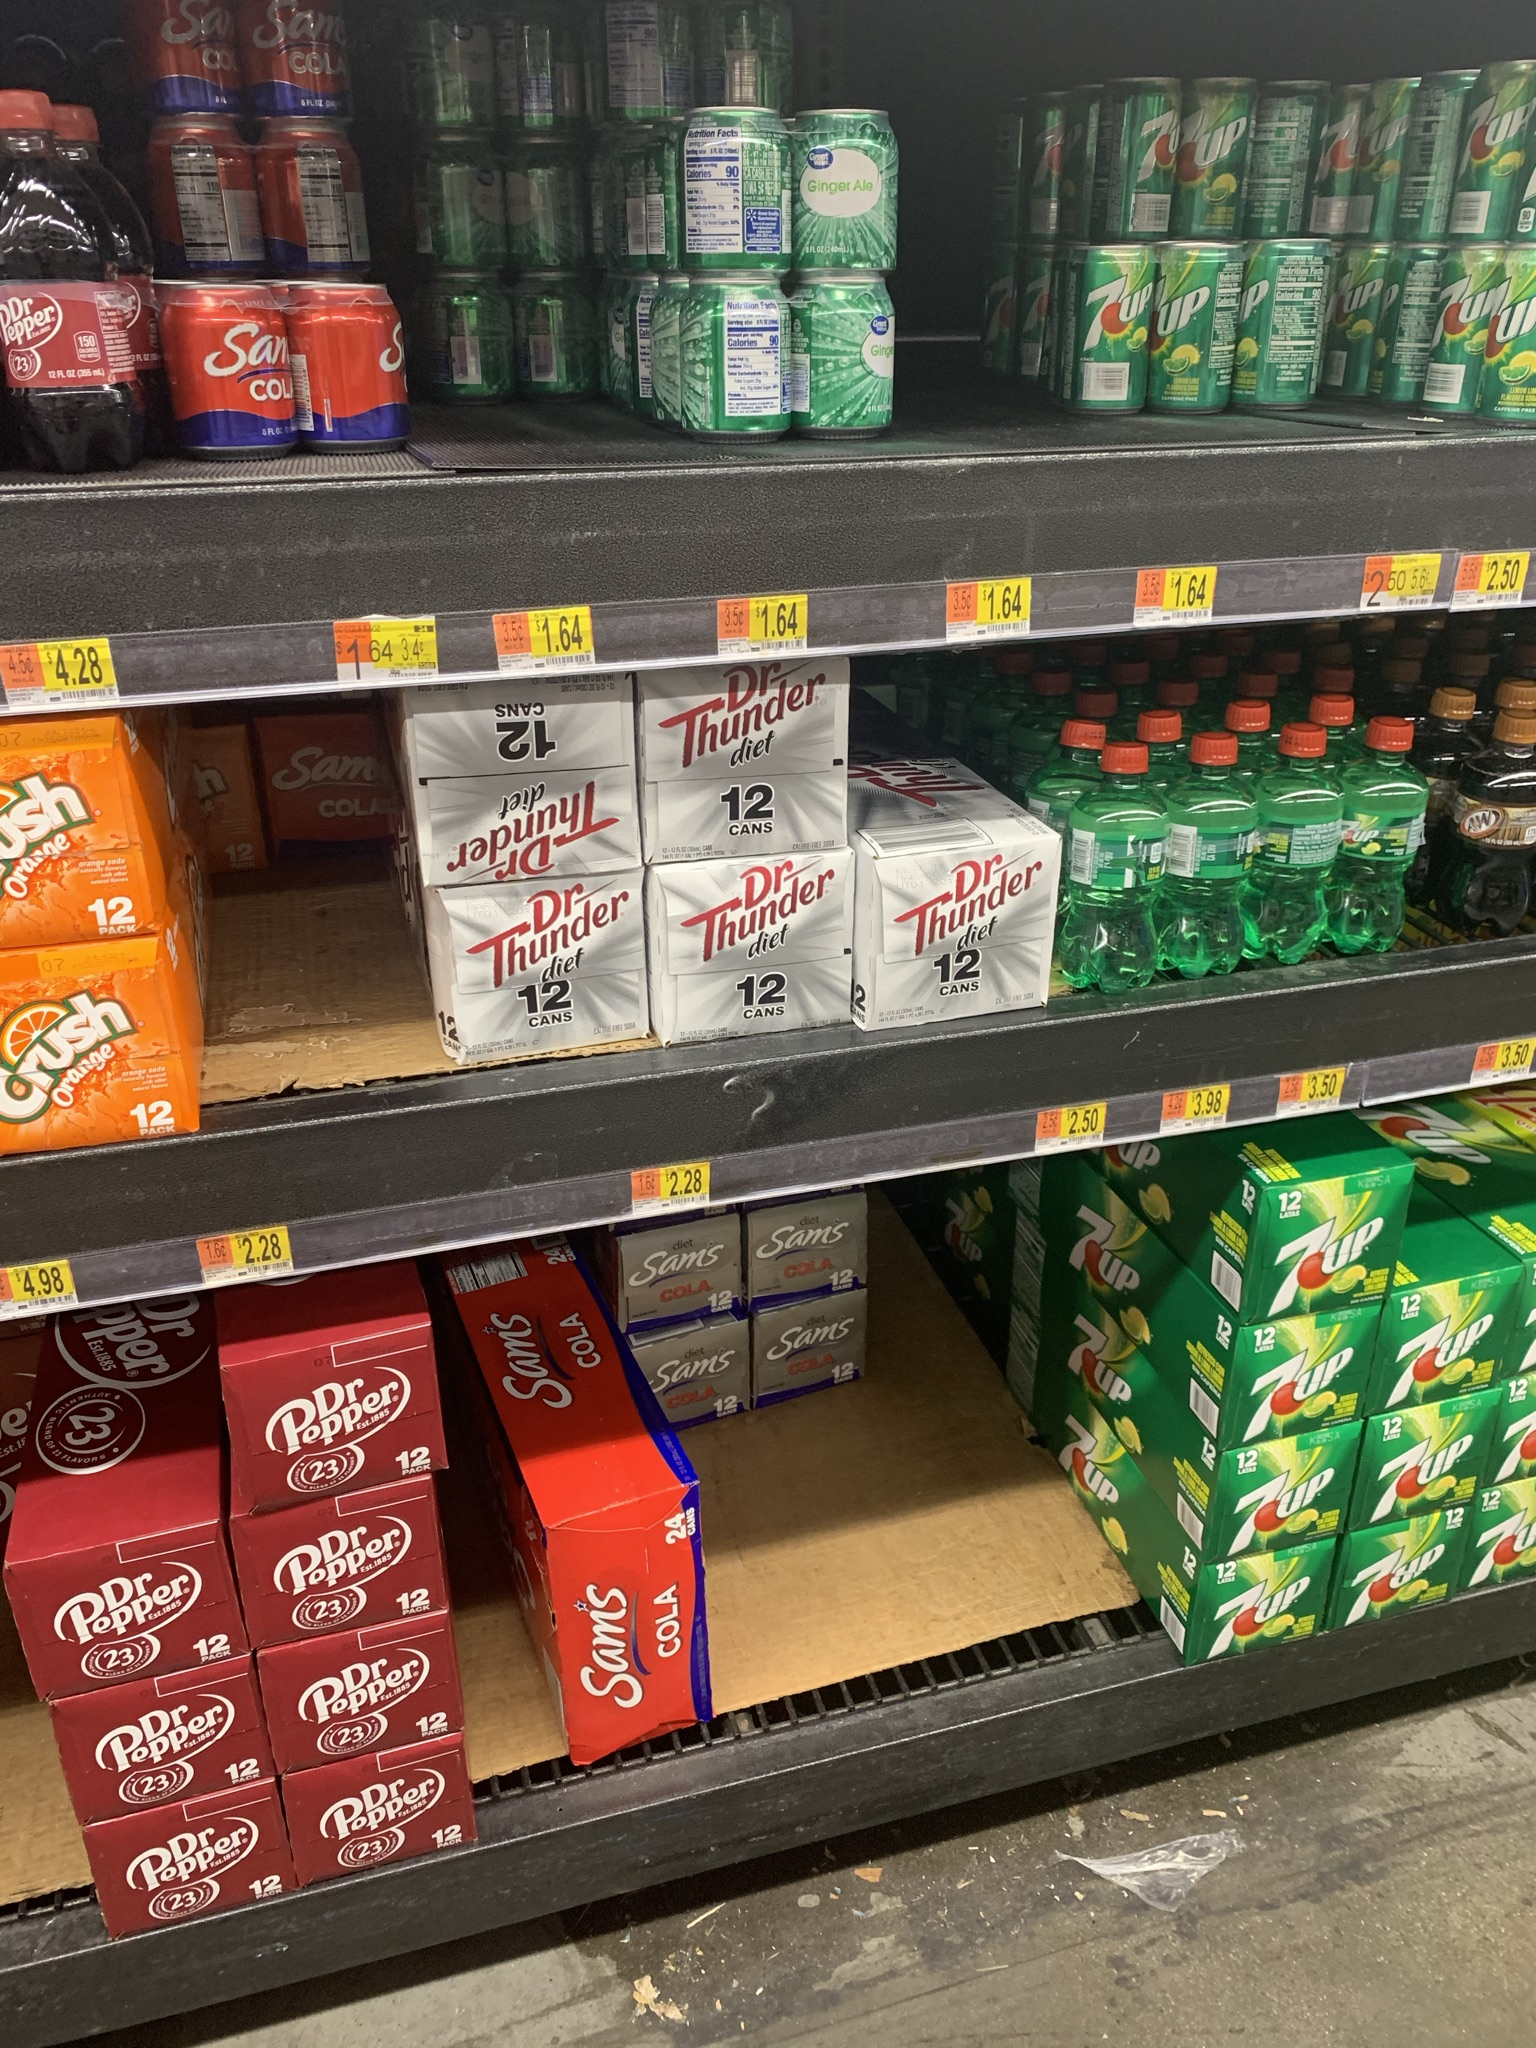box: (2, 706, 157, 939), (2, 953, 184, 1140), (563, 1500, 700, 1742), (428, 706, 628, 868), (63, 1801, 287, 1945), (226, 1353, 452, 1493), (19, 1535, 240, 1672), (1225, 1140, 1404, 1308), (52, 1661, 266, 1800), (445, 906, 644, 1042), (663, 697, 845, 842), (879, 868, 1052, 1009), (671, 884, 845, 1019), (1225, 1305, 1371, 1432), (1386, 1264, 1512, 1393), (1199, 1534, 1333, 1651), (263, 731, 378, 851), (1218, 1455, 1354, 1546), (1352, 1406, 1475, 1506), (1355, 1534, 1468, 1609), (632, 1243, 741, 1314), (757, 1218, 858, 1284), (658, 1338, 744, 1414), (766, 1317, 860, 1380)
can: (307, 293, 402, 447), (182, 289, 274, 447), (815, 121, 900, 264), (700, 290, 784, 435), (707, 121, 784, 261), (818, 297, 897, 426), (1104, 89, 1170, 235), (181, 148, 253, 273), (1258, 248, 1318, 397), (292, 155, 371, 266), (1173, 268, 1231, 406), (1184, 82, 1238, 232), (1094, 264, 1149, 410), (440, 290, 511, 400), (424, 155, 494, 261), (1473, 76, 1517, 244), (1260, 85, 1307, 239), (611, 19, 682, 119), (423, 23, 482, 134), (1441, 264, 1483, 414), (536, 287, 597, 389), (1412, 90, 1450, 235), (508, 26, 565, 121), (1399, 266, 1425, 406)
